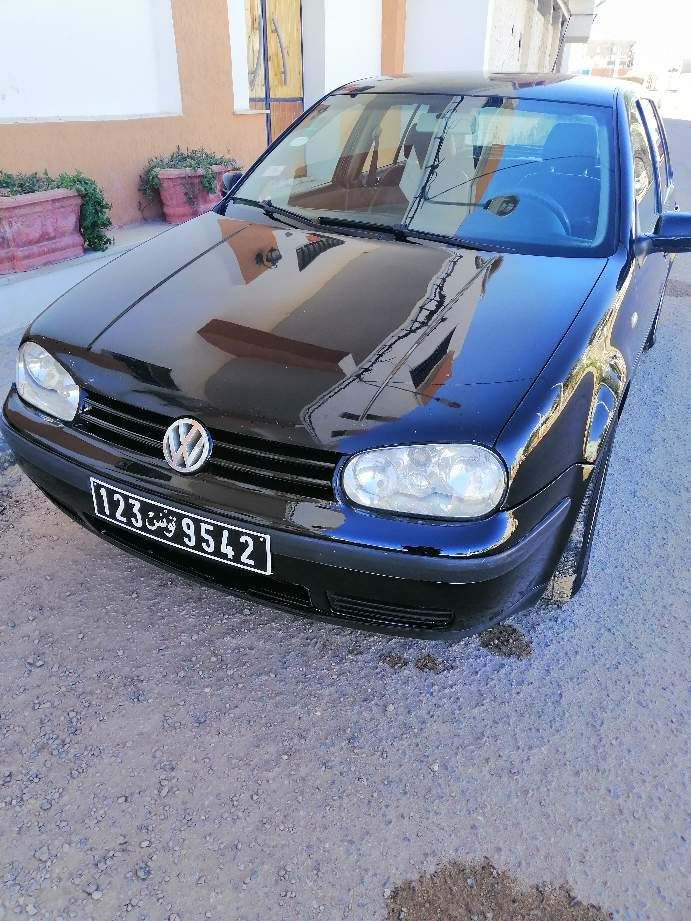LP: (90, 474, 271, 574)
